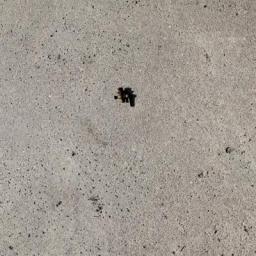FOD: (112, 85, 139, 108)
